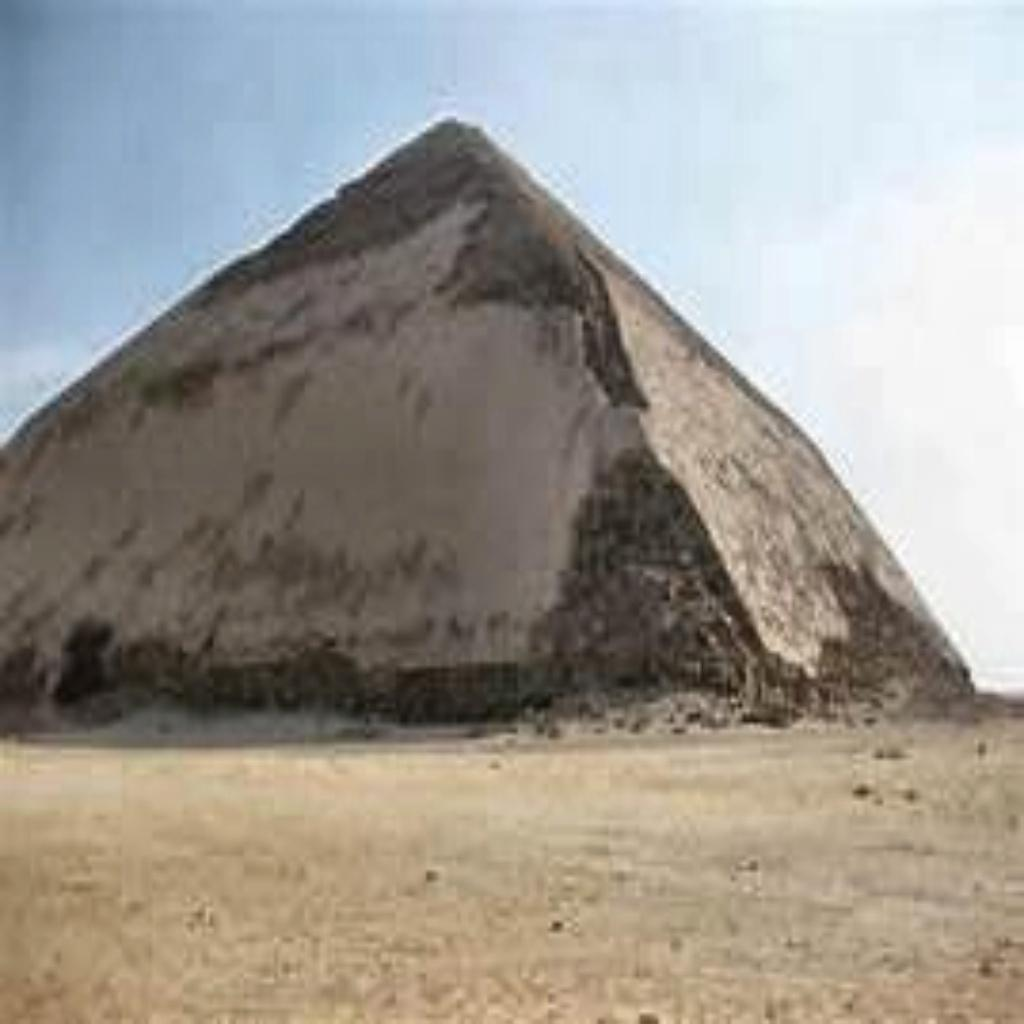Bent Pyramid of King Sneferu: (0, 107, 978, 734)
